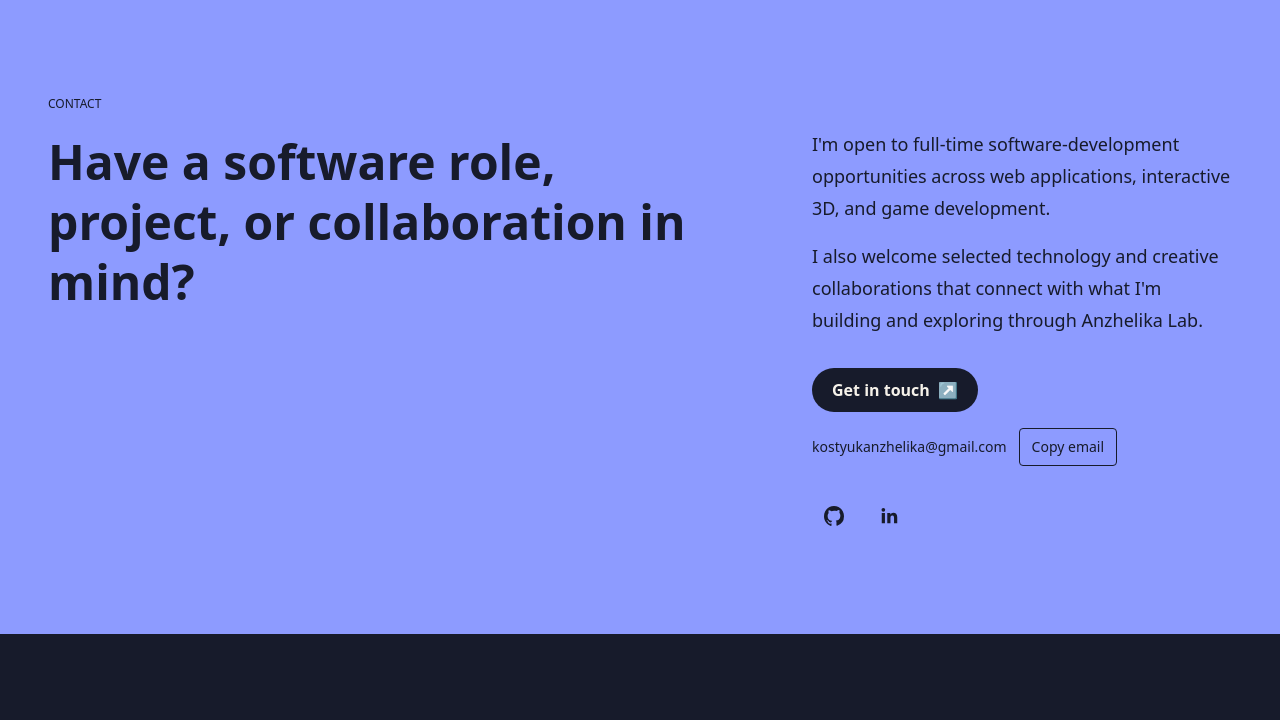
it: Contact › copies the visible email address only when Copy email is clicked
This screenshot has width=1280, height=720.
Click the button "Copy email" at (1068, 447), box left=1019, top=428, right=1117, bottom=466
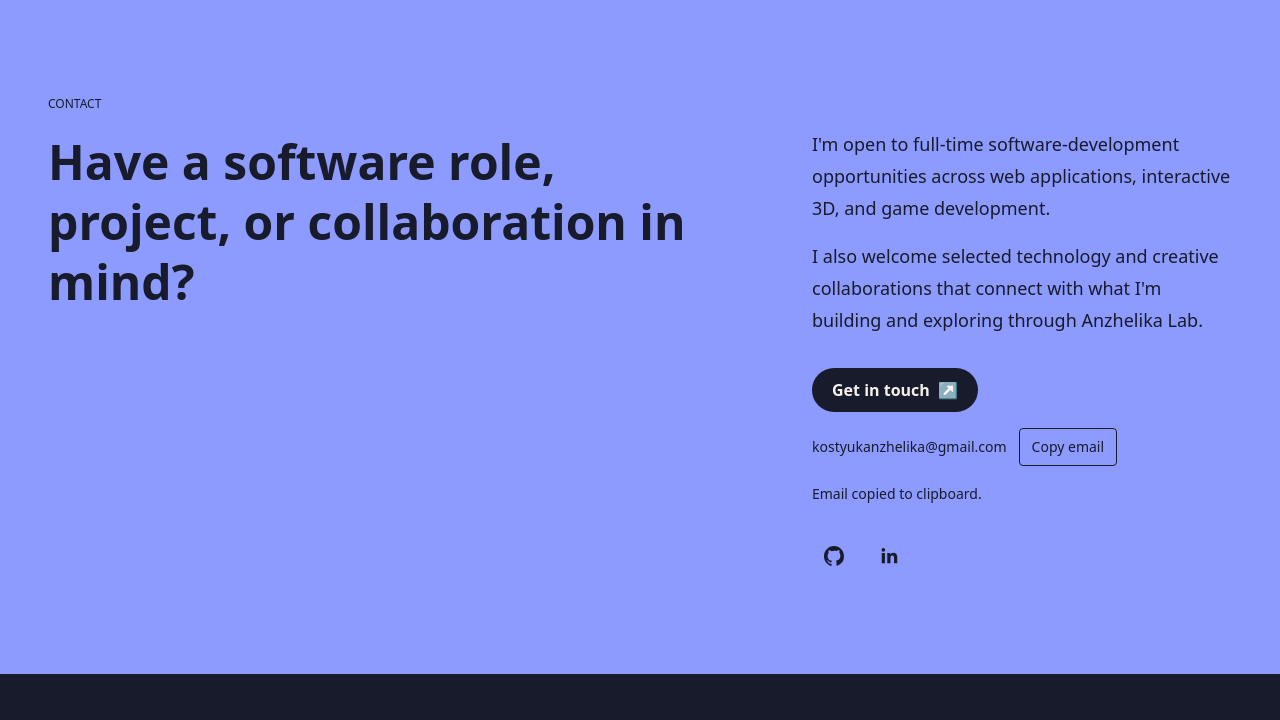
Expected: the text "Email copied to clipboard." is shown, left=812, top=484, right=982, bottom=503
